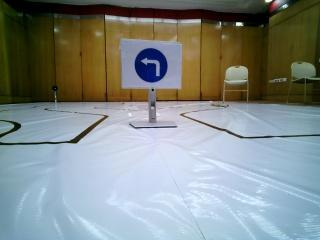left: (127, 43, 175, 85)
